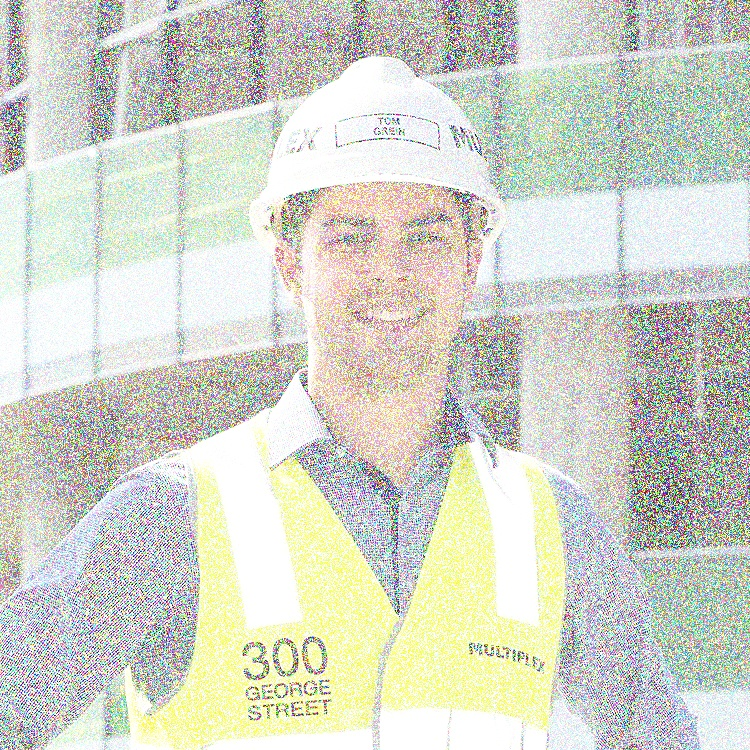helmet: (243, 47, 516, 397)
vest: (84, 412, 642, 750)
